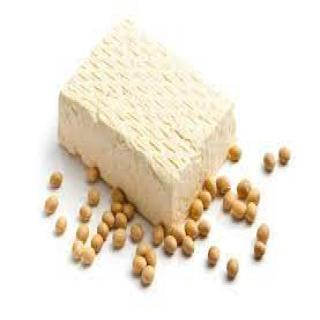Tahu: (31, 15, 267, 229)
